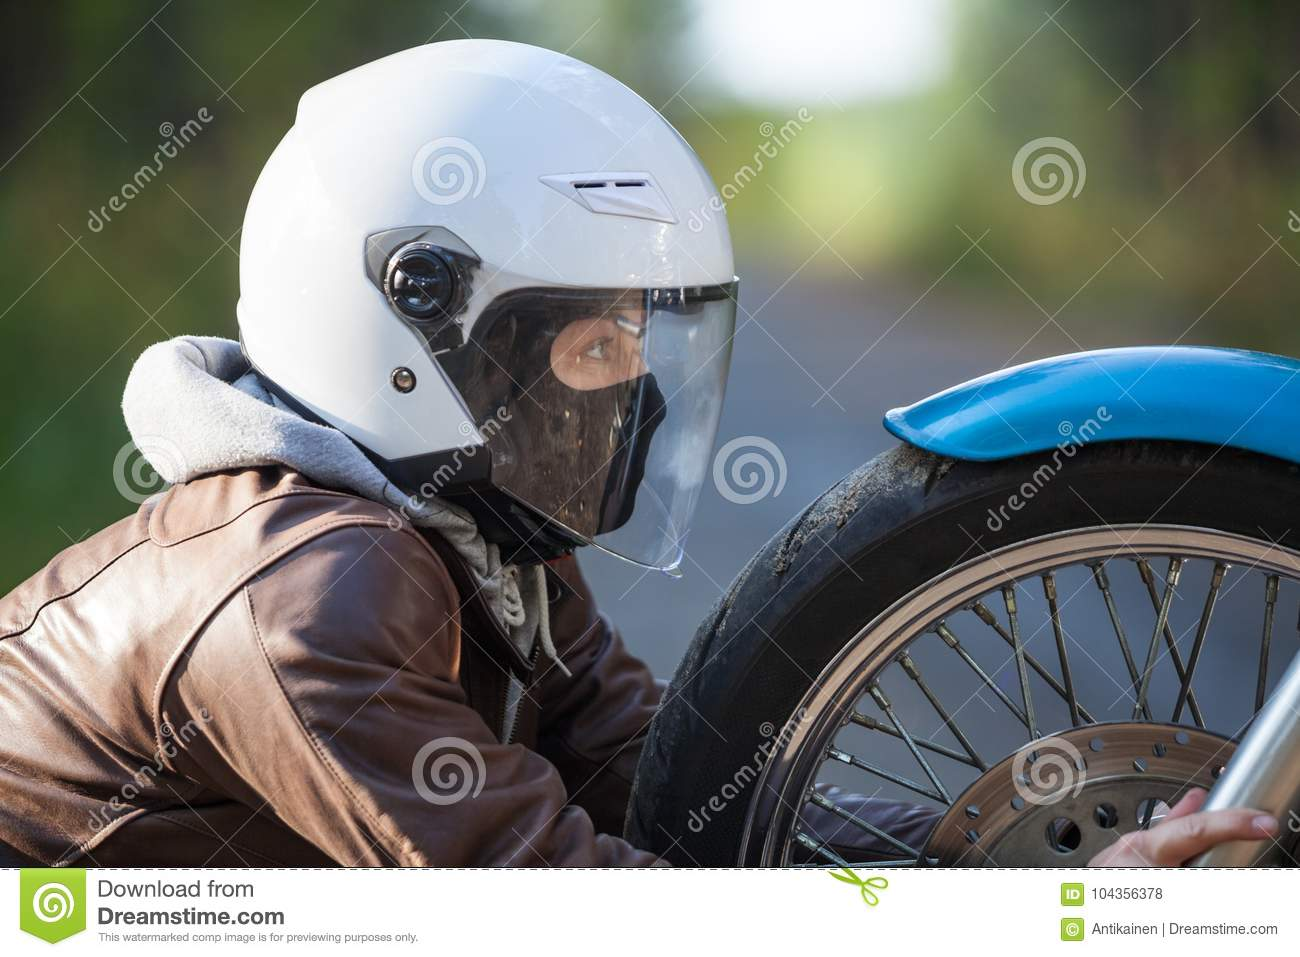helmet: (242, 49, 733, 546)
